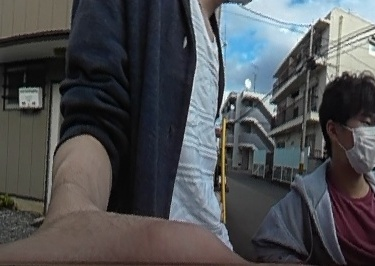person: (250, 73, 375, 266)
